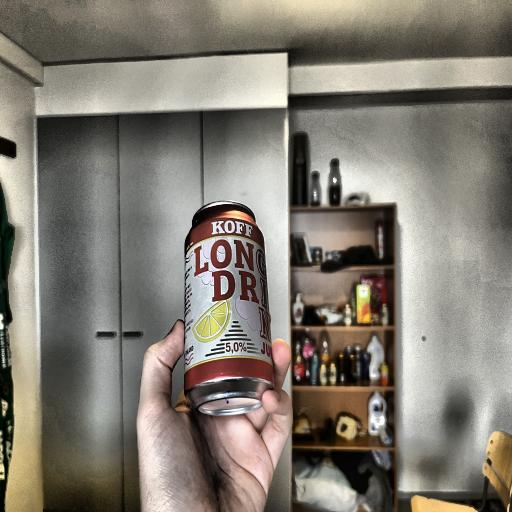koff: (178, 200, 268, 412)
